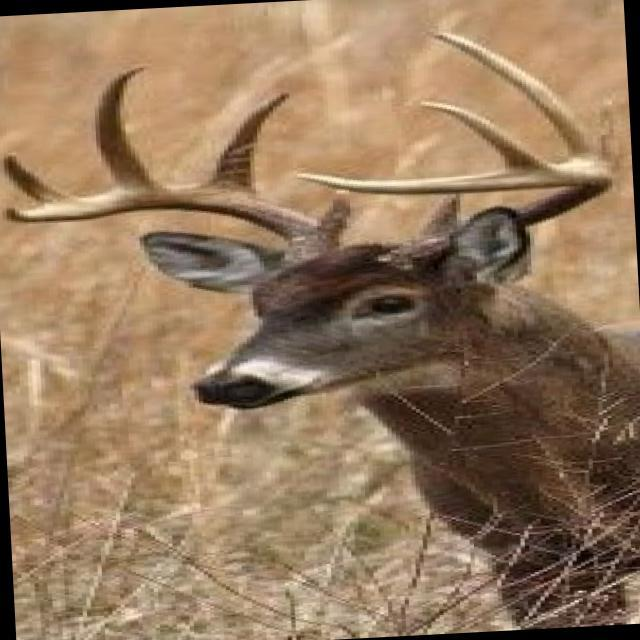L-G1: (417, 193, 465, 239)
L-G2: (597, 85, 622, 173)
L-G3: (431, 31, 602, 163)
L-G4: (420, 100, 554, 172)
R-F: (1, 189, 343, 270)
R-G1: (315, 191, 352, 237)
R-G2: (199, 89, 291, 198)
R-G3: (93, 66, 171, 194)
R-G4: (2, 152, 78, 205)
